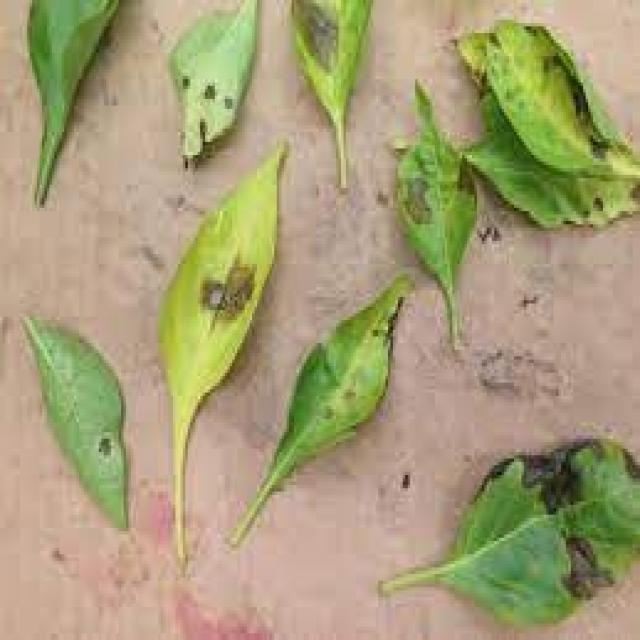bercak_daun: (167, 156, 286, 399), (280, 0, 377, 130)
